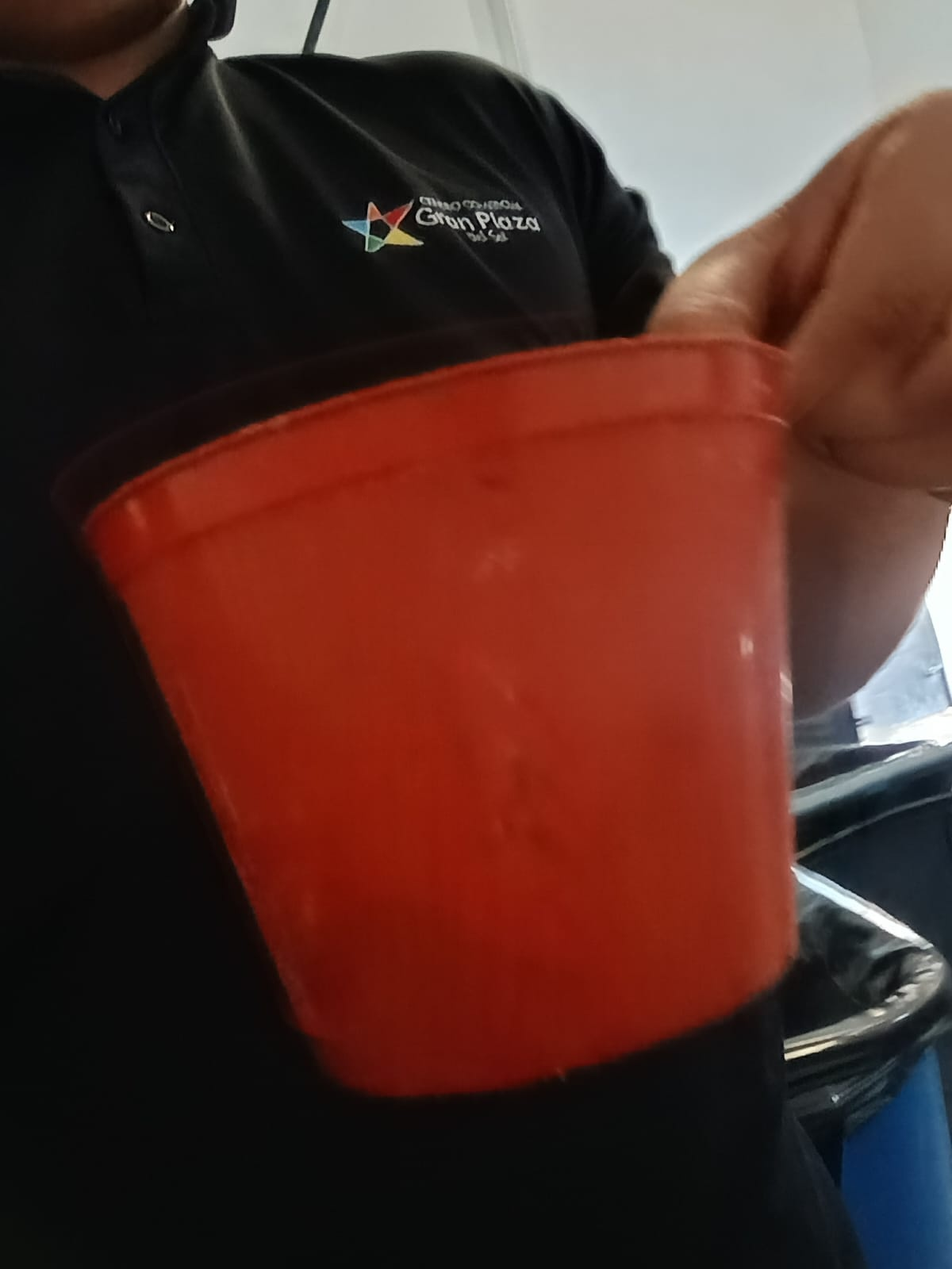Plastico: (76, 333, 807, 1099)
